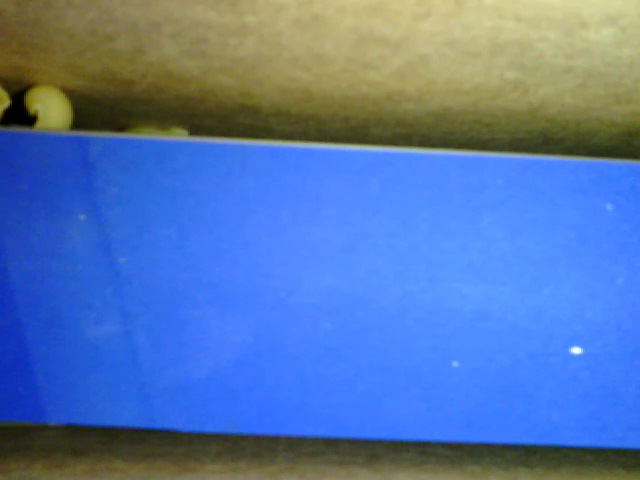shell: (22, 81, 76, 134)
